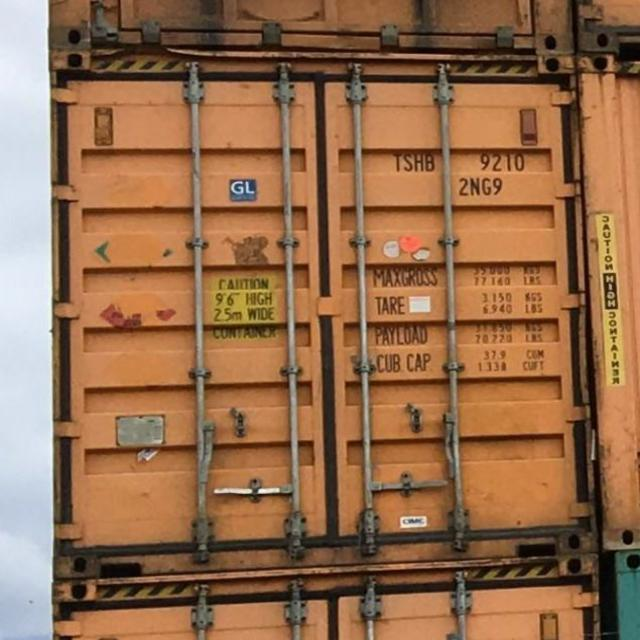ISO: (456, 175, 508, 198)
container_number: (391, 147, 528, 174)
